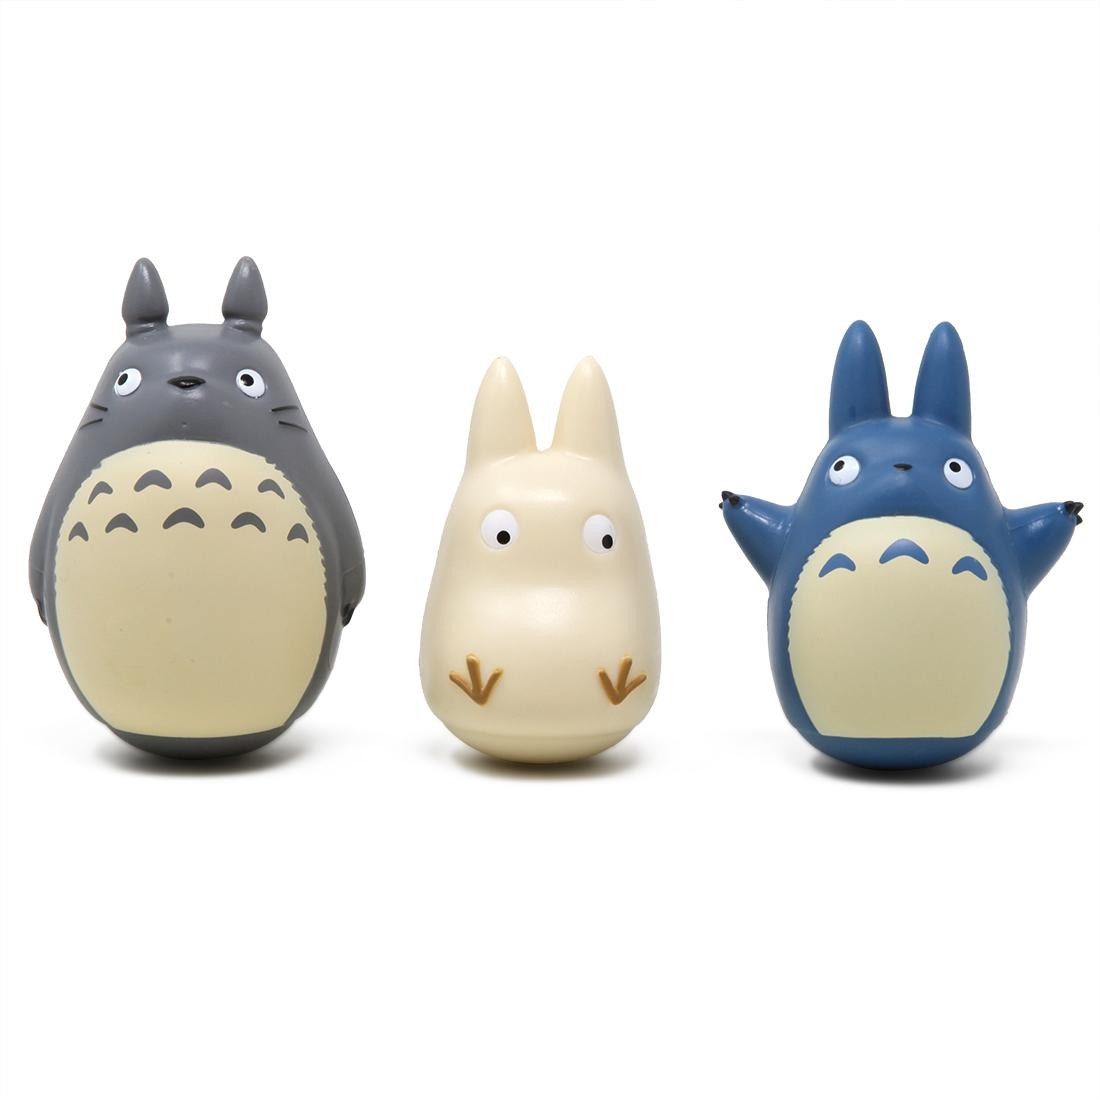Totoro: (27, 250, 380, 766)
